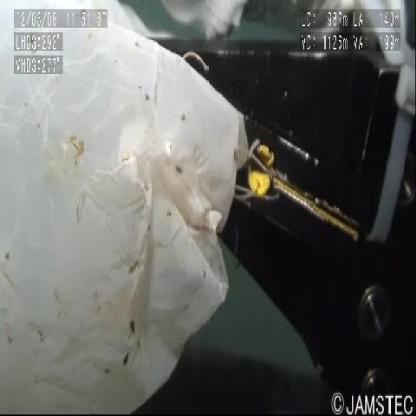Rov: (143, 1, 416, 390), (136, 348, 328, 416)
Rác: (1, 3, 257, 416)
